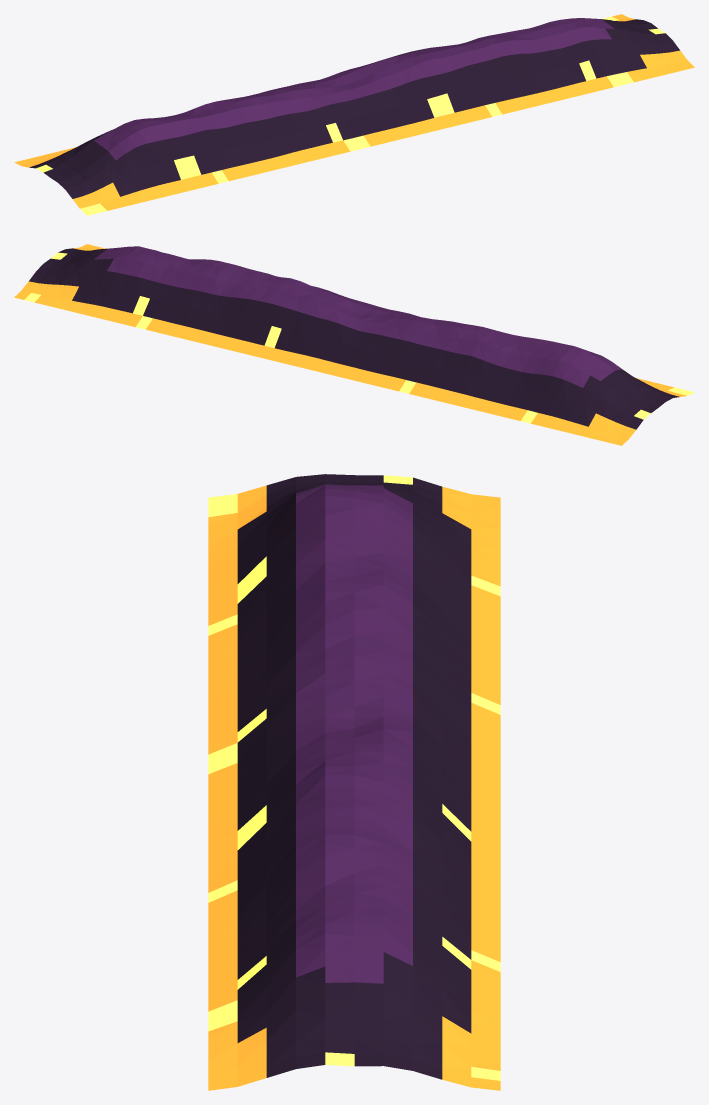
File: W4_Far_LavaField.fbx
3 views of the same model, one above another, from view 1: azimuth 30°, elevation 25°; view 2: azimuth 150°, elevation 25°; view 3: azimuth 270°, elevation 25° (orthographic). The views are drawn at different scales.
Parts seen in each view (by area): view 1: W4_Far_LavaField; view 2: W4_Far_LavaField; view 3: W4_Far_LavaField.
Part boxes in pixels (<box>): W4_Far_LavaField: <box>14,14,694,215</box>; W4_Far_LavaField: <box>14,244,694,445</box>; W4_Far_LavaField: <box>208,474,500,1090</box>.
Size of the model in its own units: 480 by 34.23 by 100.
